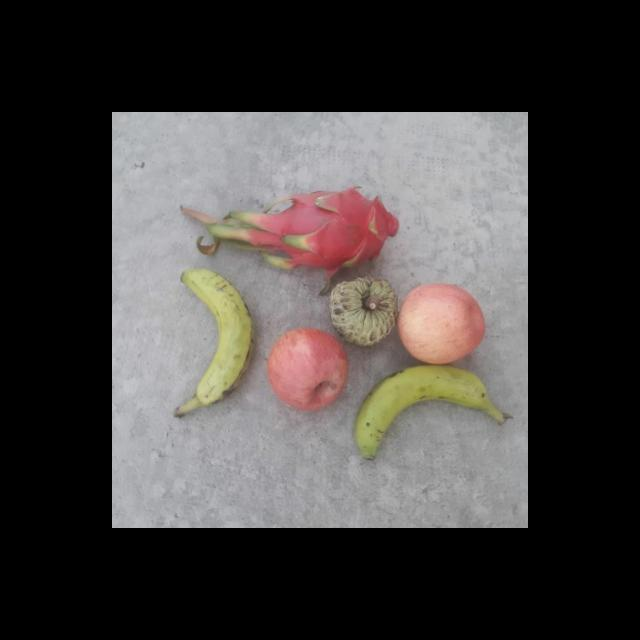Sakya fruit: (327, 272, 401, 350)
apple: (399, 282, 489, 362), (273, 327, 349, 408)
banana: (156, 266, 258, 418), (352, 363, 495, 456)
pitaya: (262, 188, 402, 272)
